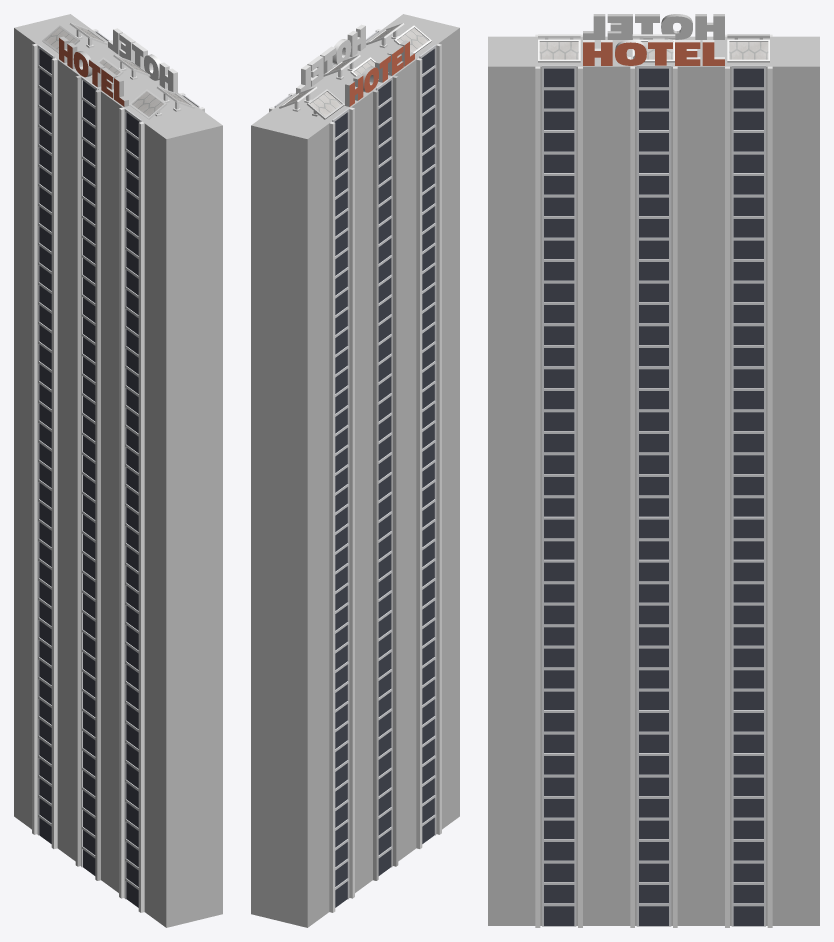
3 renders of one model, left to right at view 1: azimuth 30°, elevation 25°; view 2: azimuth 150°, elevation 25°; view 3: azimuth 270°, elevation 25°, orthographic. The views are drawn at different scales.
Visible parts, largest first — view 1: block_default_13, columns_16, columns_17, columns_18, sign_textHotel_275, sign_textHotel_276, detail_solarPanel_272; view 2: block_default_13, columns_16, columns_17, columns_18, sign_textHotel_275, sign_textHotel_276, detail_solarPanel_268, detail_solarPanel_272; view 3: block_default_13, columns_19, columns_21, columns_20, sign_textHotel_276, sign_textHotel_275, detail_solarPanel_269, detail_solarPanel_273, garage_wide_226, garage_wide_266, garage_wide_186, garage_wide_196 (+116 smaller).
Part boxes in pixels (x1,y1,x2,y2): block_default_13: (14, 14, 222, 927); columns_16: (75, 75, 100, 880); columns_17: (32, 43, 57, 848); columns_18: (119, 107, 144, 912); sign_textHotel_275: (59, 36, 128, 106); sign_textHotel_276: (108, 28, 177, 93); detail_solarPanel_272: (129, 89, 166, 119); block_default_13: (251, 14, 459, 927); columns_16: (373, 75, 398, 880); columns_17: (329, 107, 354, 912); columns_18: (416, 43, 441, 848); sign_textHotel_275: (345, 40, 414, 106); sign_textHotel_276: (296, 24, 365, 93); detail_solarPanel_268: (307, 89, 344, 119); detail_solarPanel_272: (394, 25, 431, 53); block_default_13: (488, 36, 819, 925); columns_19: (535, 66, 582, 927); columns_21: (725, 66, 772, 927); columns_20: (630, 66, 677, 927); sign_textHotel_276: (583, 40, 724, 65); sign_textHotel_275: (583, 14, 724, 39); detail_solarPanel_269: (727, 39, 769, 62); detail_solarPanel_273: (538, 39, 580, 62); garage_wide_226: (636, 903, 671, 926); garage_wide_266: (731, 903, 765, 926); garage_wide_186: (542, 903, 576, 926); garage_wide_196: (636, 65, 671, 88).
Bounding box in the file's own units: 1.7 × 20.55 × 7.
36 materials, 4 textured.
